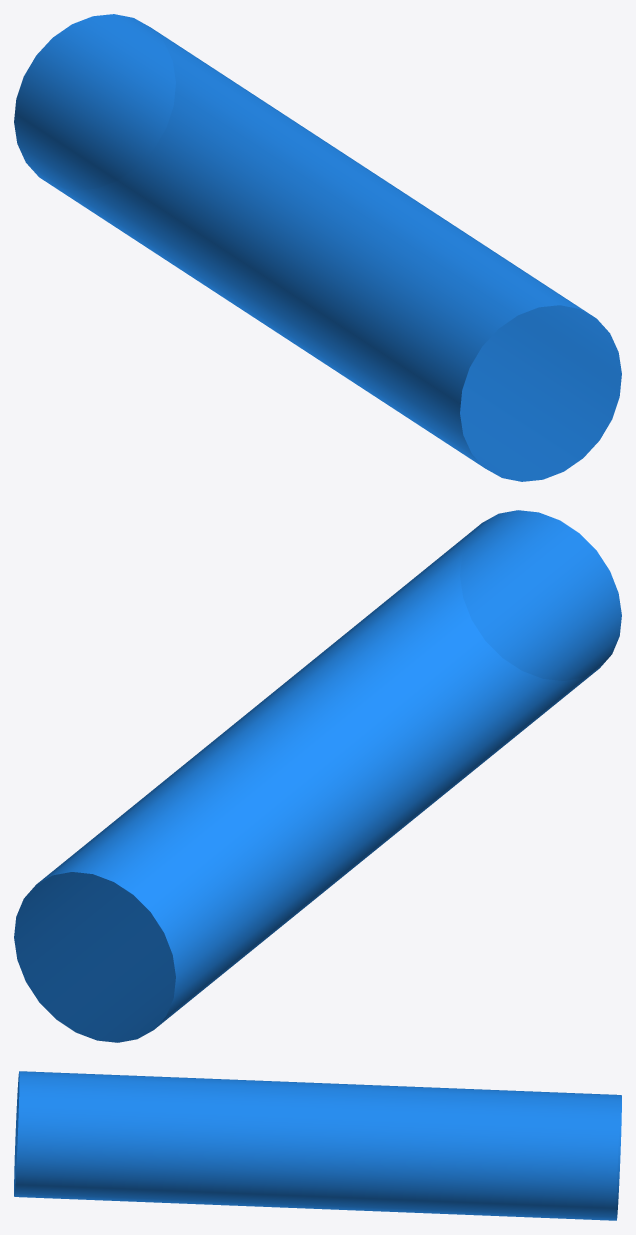
Rendered from Event_421127236_MET.fbx.
The picture shows the model from 3 angles, top to bottom: view 1: azimuth 30°, elevation 25°; view 2: azimuth 150°, elevation 25°; view 3: azimuth 270°, elevation 25°; orthographic projection. The views are drawn at different scales.
Visible parts, largest first — view 1: Model; view 2: Model; view 3: Model.
Part boxes in pixels (x1,y1,x2,y2): Model: [14, 14, 621, 481]; Model: [14, 510, 621, 1042]; Model: [14, 1071, 621, 1220].
Size of the model in its own units: 0.04 by 0.0483 by 0.1924.
